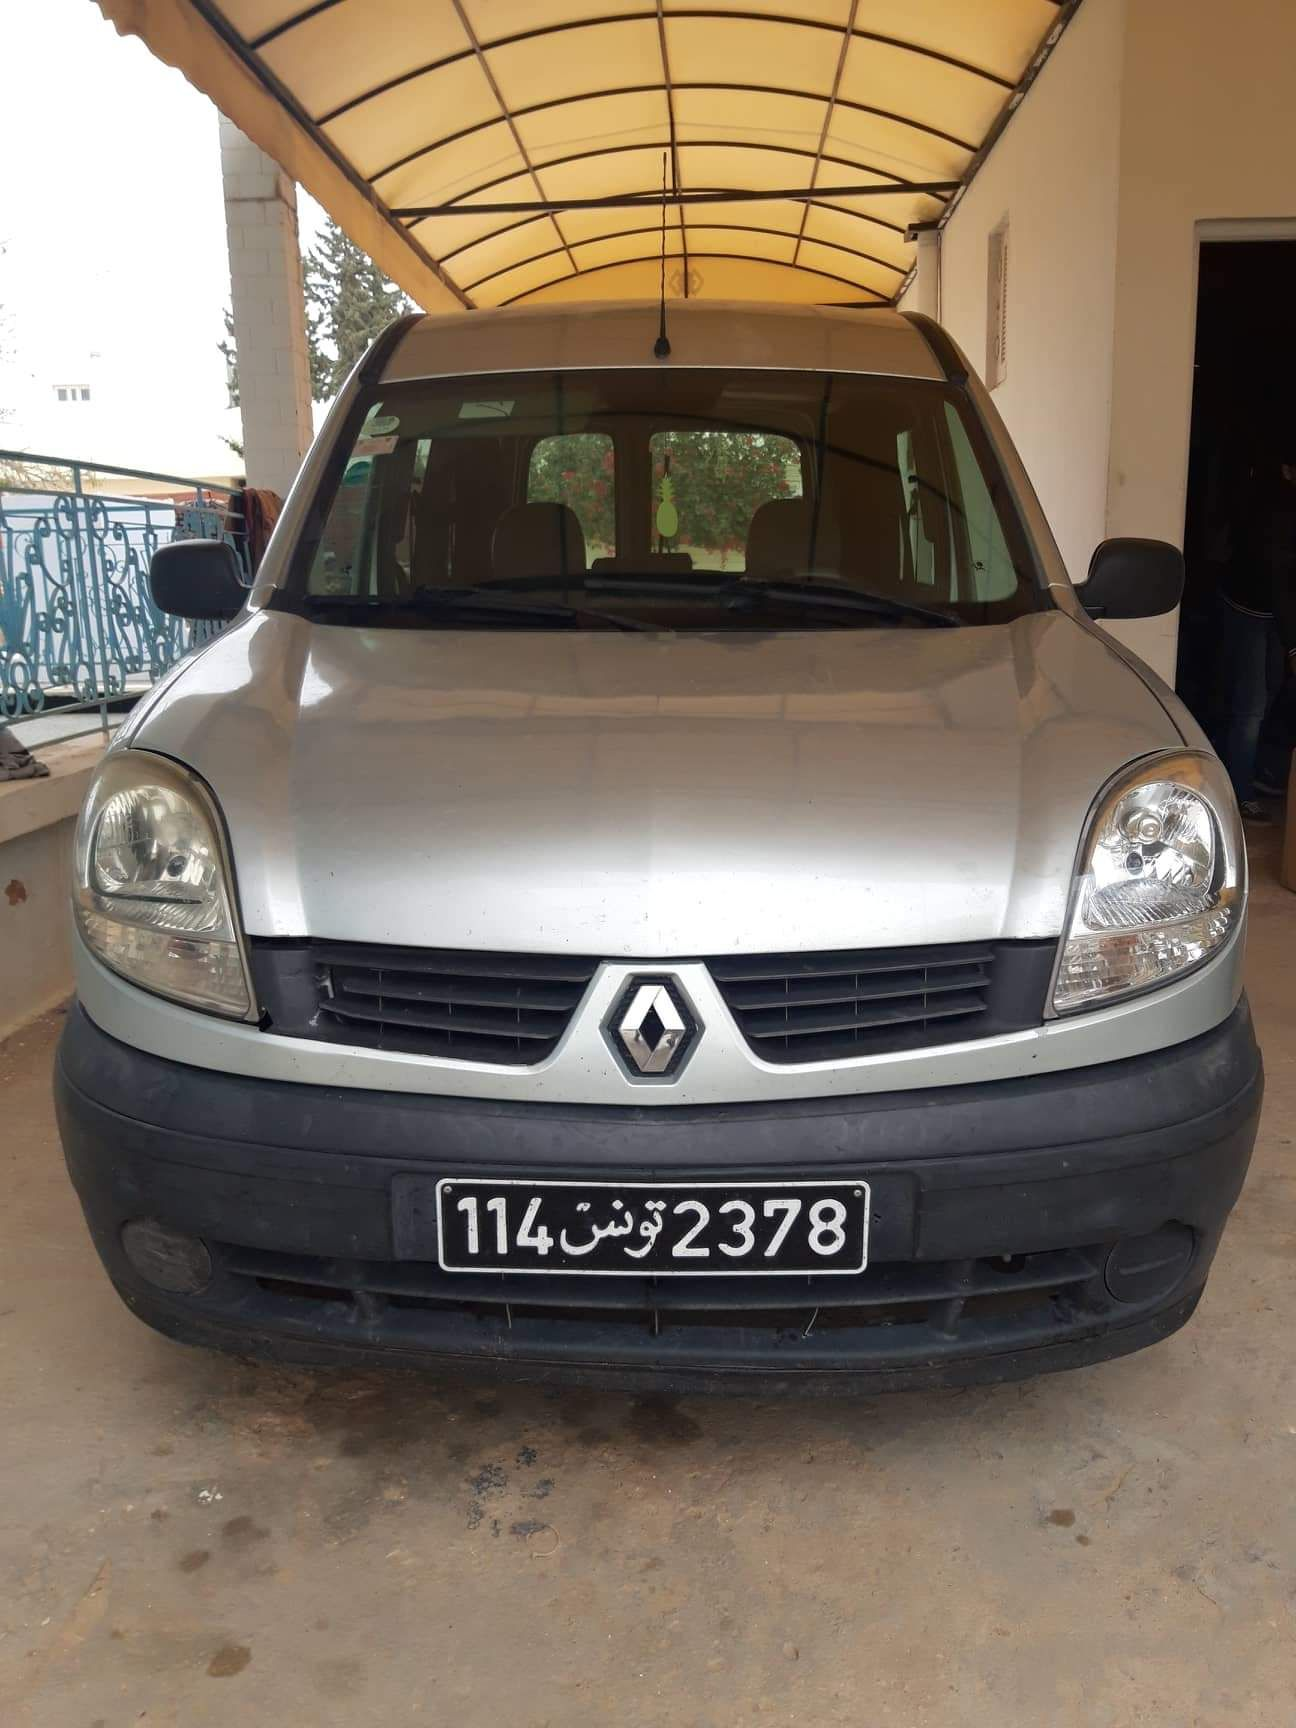LP: (436, 1175, 873, 1277)
